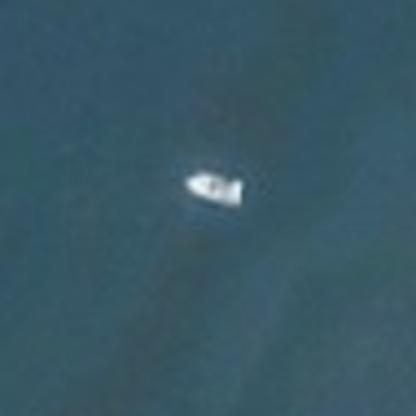ship: (177, 162, 250, 215)
